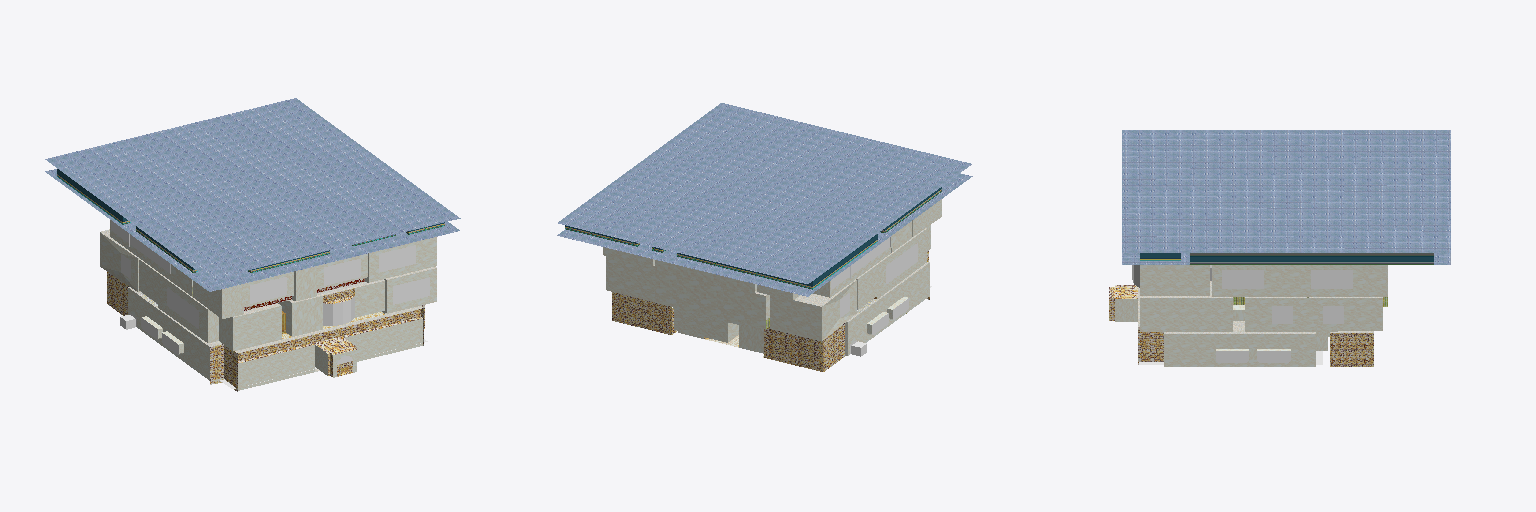
3 renders of one model, left to right at view 1: azimuth 30°, elevation 25°; view 2: azimuth 150°, elevation 25°; view 3: azimuth 270°, elevation 25°, orthographic.
Parts seen in each view (by area): view 1: Mesh.001_Mesh_delfino4_No_Texture_RemDupVer; view 2: Mesh.001_Mesh_delfino4_No_Texture_RemDupVer; view 3: Mesh.001_Mesh_delfino4_No_Texture_RemDupVer.
Boxes of the visible parts, box(x1,y1,x2,y2) form: Mesh.001_Mesh_delfino4_No_Texture_RemDupVer: box(45, 98, 460, 391); Mesh.001_Mesh_delfino4_No_Texture_RemDupVer: box(557, 103, 972, 371); Mesh.001_Mesh_delfino4_No_Texture_RemDupVer: box(1109, 130, 1450, 366).
Bounding box in the file's own units: 55.68 × 27.43 × 65.74.
35 materials, 18 textured.